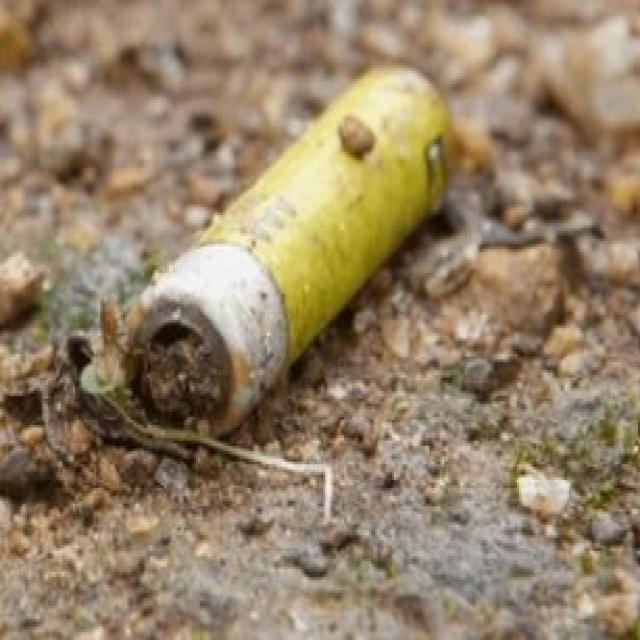electronic: (88, 26, 520, 542)
